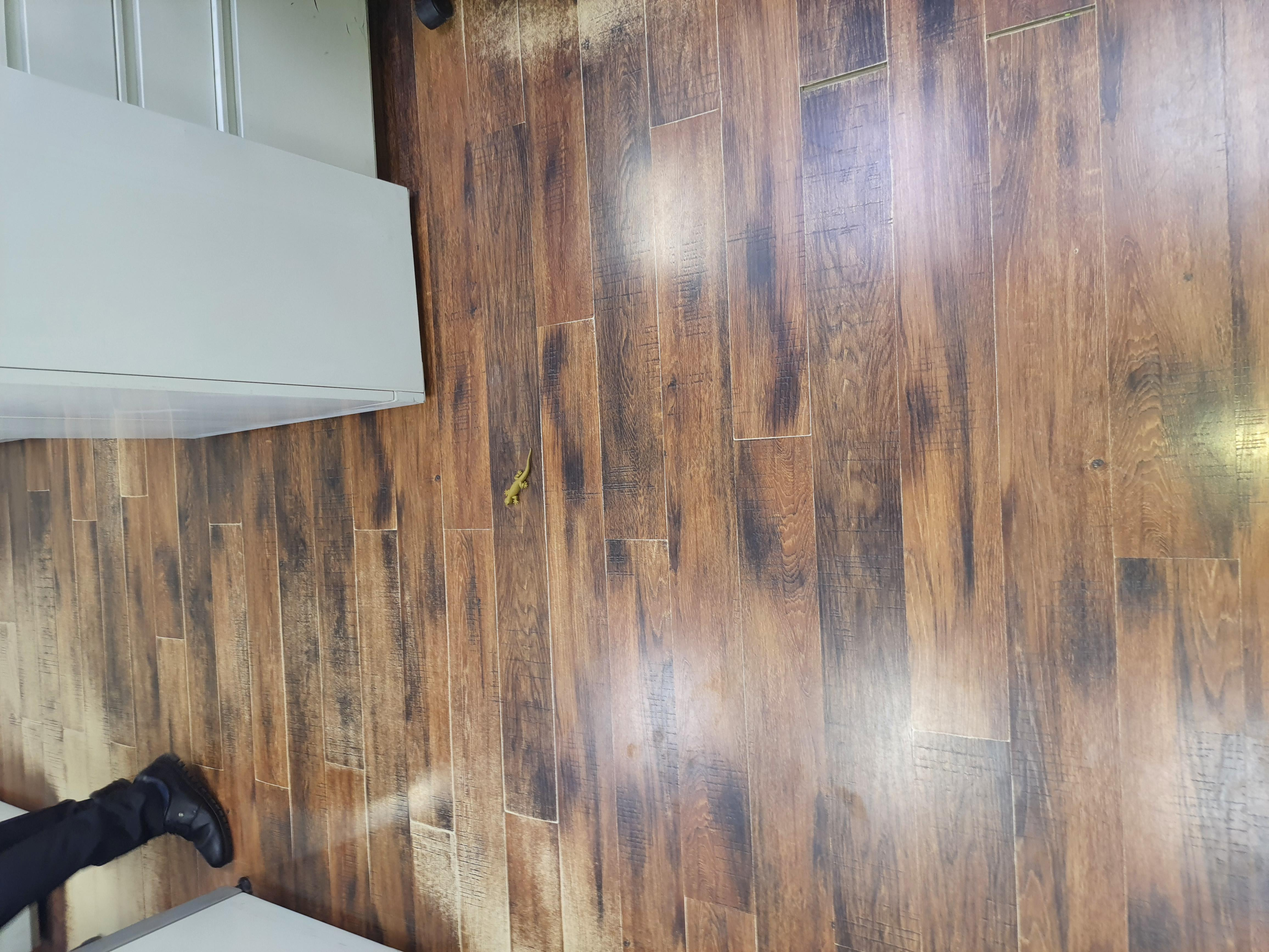lizard: (583, 360, 695, 406)
